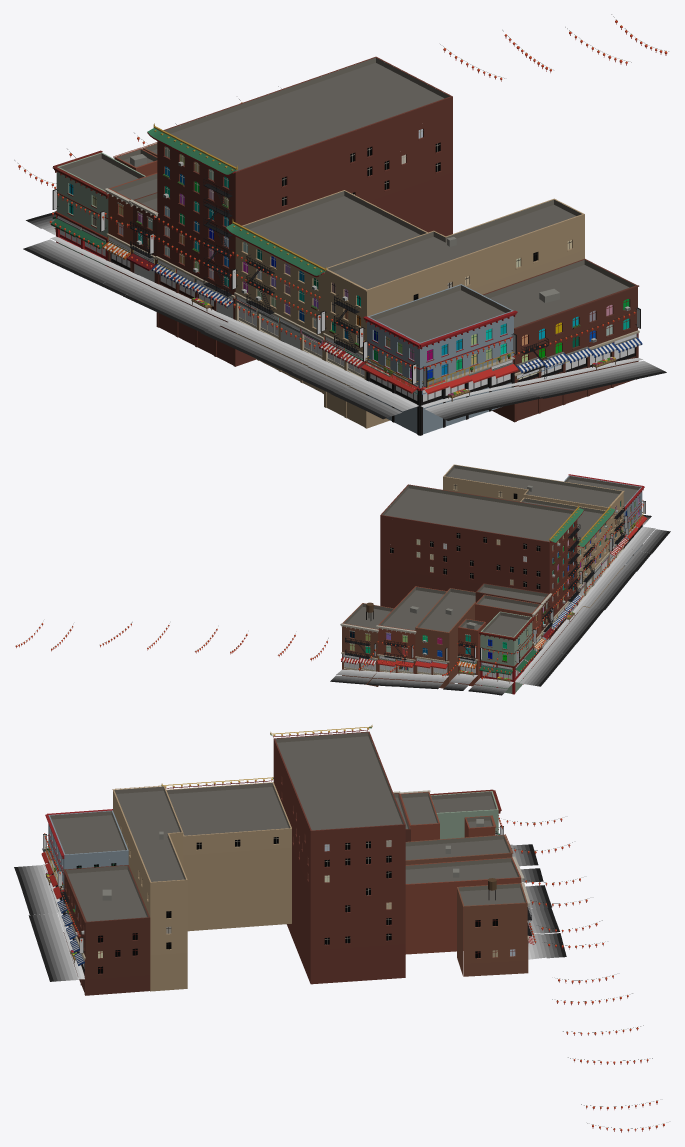
3 views of the same model, one above another, from view 1: azimuth 30°, elevation 25°; view 2: azimuth 150°, elevation 25°; view 3: azimuth 270°, elevation 25° (orthographic). The views are drawn at different scales.
Parts seen in each view (by area): view 1: L0_roof, L0_brickred, L0_ground, L0_brick, L0_d_metal, L0_stucco, L0_stone, L0_cwin, L0_d_fabric, L0_d_stone, L0_clear, L0_d_paint (+7 smaller); view 2: L0_roof, L0_brickred, L0_ground, L0_d_metal, L0_stone, L0_brick, L0_d_brickred, L0_d_fabric, L0_stucco, L0_cwin, L0_lantern, L0_d_stone (+5 smaller); view 3: L0_roof, L0_brickred, L0_brick, L0_ground, L0_d_brickred, L0_stone, L0_win, L0_stucco, L0_d_metal, L0_d_stucco, L0_d_fabric, L0_d_paint (+1 smaller).
Part boxes in pixels (x1,y1,x2,y2): L0_roof: (59,57,635,342); L0_brickred: (108,96,637,420); L0_ground: (23,212,666,420); L0_brick: (235,214,584,428); L0_d_metal: (14,14,668,404); L0_stucco: (56,172,513,434); L0_stone: (52,56,639,390); L0_cwin: (69,146,629,379); L0_d_fabric: (19,23,666,394); L0_d_stone: (56,192,638,435); L0_clear: (60,230,634,401); L0_d_paint: (55,126,615,395); L0_roof: (344,465,640,636); L0_brickred: (342,515,577,688); L0_ground: (330,515,670,695); L0_d_metal: (29,485,645,681); L0_stone: (340,464,644,667); L0_brick: (443,476,623,611); L0_d_brickred: (349,523,575,686); L0_d_fabric: (16,506,647,679); L0_stucco: (480,491,642,693); L0_cwin: (350,497,639,660); L0_lantern: (15,500,643,678); L0_d_stone: (342,502,642,694); L0_roof: (50,732,525,921); L0_brickred: (64,739,527,995); L0_brick: (113,790,291,991); L0_ground: (14,844,566,981); L0_d_brickred: (65,823,521,975); L0_stone: (45,731,530,959); L0_win: (76,837,515,973); L0_stucco: (48,823,128,911); L0_d_metal: (43,819,657,1128); L0_d_stucco: (49,810,498,882); L0_d_fabric: (41,820,663,1132); L0_d_paint: (45,726,529,958).
Bounding box in the file's own units: 123 × 33.82 × 124.
